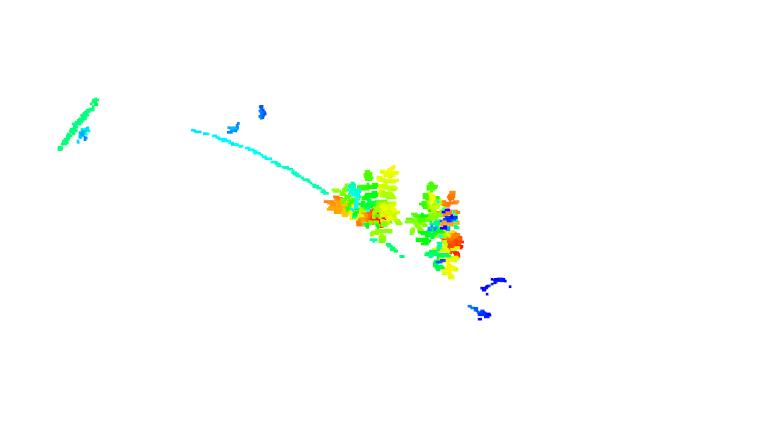chickpea: (325, 166, 402, 246), (406, 178, 465, 280)
